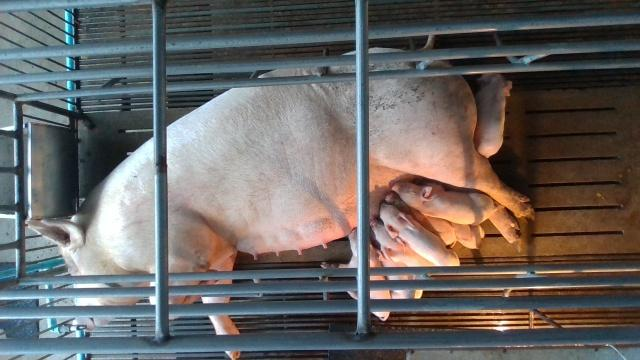piglet: (324, 228, 393, 322), (379, 202, 462, 267), (391, 178, 498, 225), (475, 72, 513, 158), (371, 219, 432, 268)
sow-sleep-lactate: (27, 47, 532, 360)
